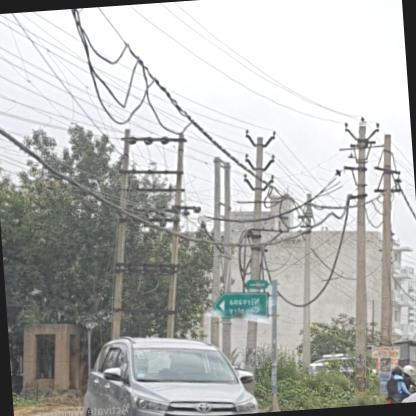car: (77, 325, 262, 415)
motorcycle: (381, 363, 415, 404)
